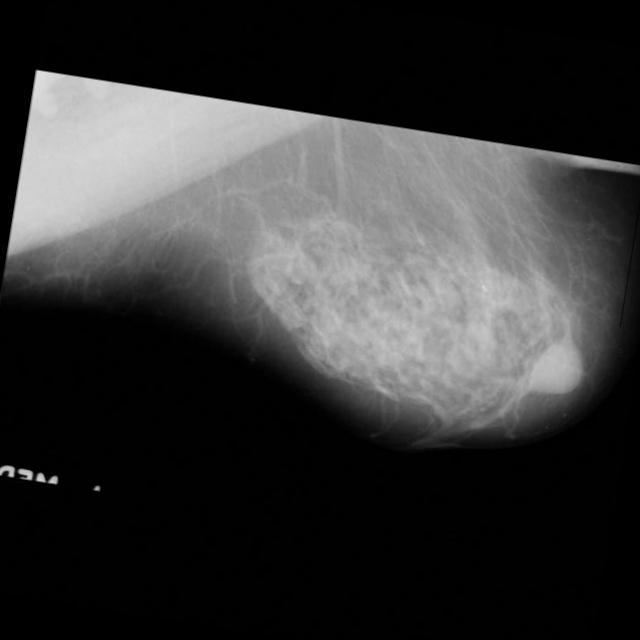CIRC: (522, 334, 592, 404)
